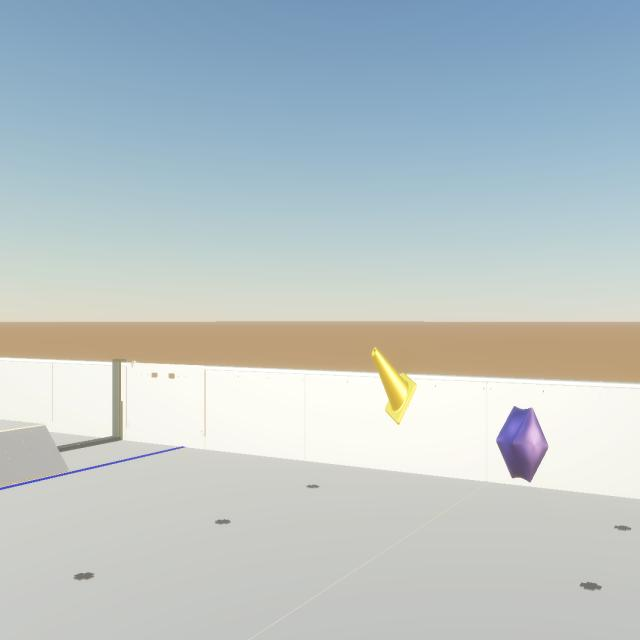frc_cone: (372, 347, 417, 425)
frc_cube: (496, 406, 548, 482)
